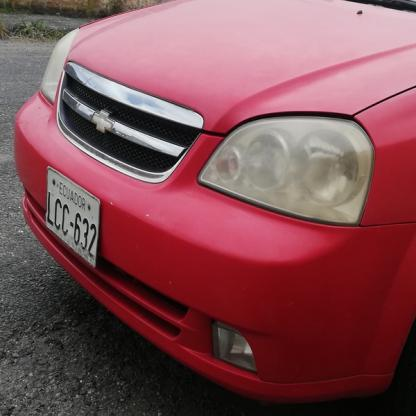Placa: (42, 165, 102, 269)
